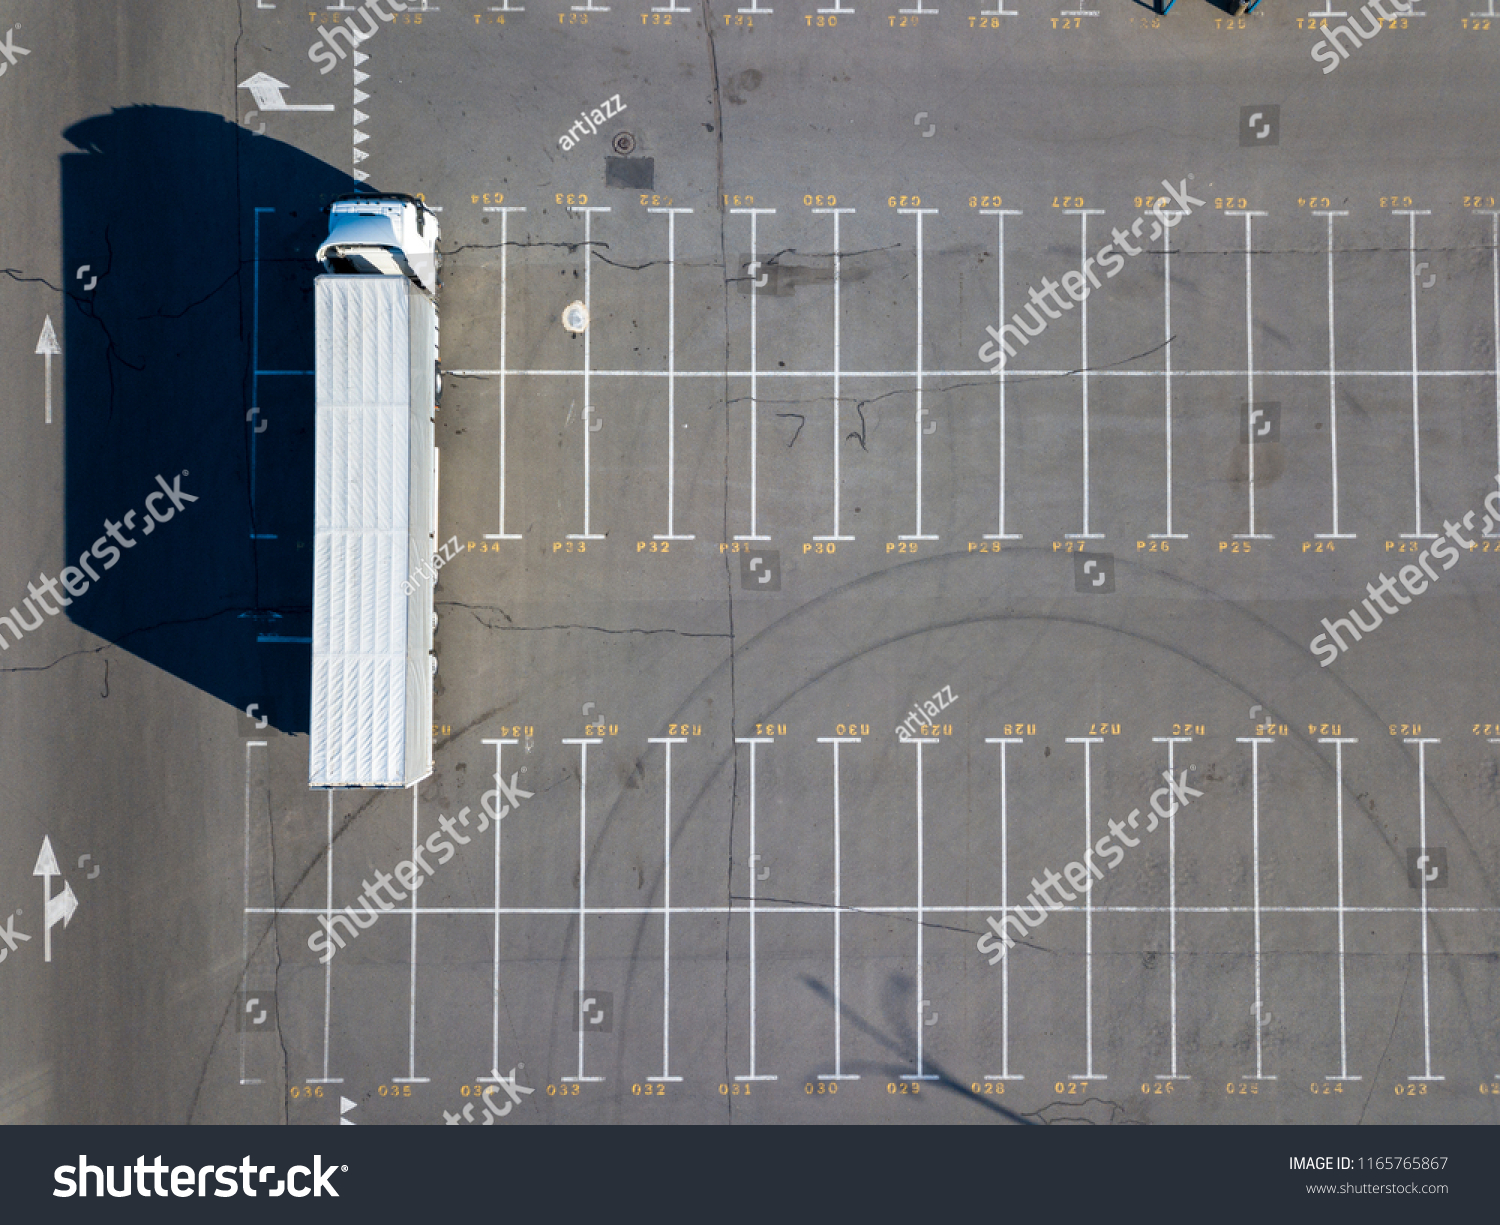LaneMark: (230, 732, 277, 1104), (239, 202, 280, 548), (239, 906, 1500, 917), (444, 368, 1500, 376), (32, 832, 76, 970), (490, 743, 505, 1079), (27, 313, 69, 430), (745, 739, 759, 1078), (1327, 214, 1341, 535), (1336, 736, 1348, 1075), (831, 739, 843, 1075), (576, 744, 588, 1075), (1409, 214, 1422, 533), (1252, 738, 1263, 1077), (660, 741, 672, 1075), (914, 740, 924, 1077), (1422, 736, 1430, 1078), (914, 213, 923, 535), (1169, 743, 1176, 1075), (668, 213, 675, 538), (583, 211, 591, 535), (1165, 212, 1172, 536), (999, 216, 1007, 535), (323, 793, 330, 1077), (1085, 741, 1091, 1075), (501, 213, 507, 538), (833, 211, 840, 536), (751, 213, 757, 537), (1248, 214, 1255, 533), (1000, 738, 1005, 1075), (1083, 213, 1088, 533), (1316, 734, 1360, 745), (1232, 530, 1273, 541), (978, 206, 1023, 216), (482, 206, 525, 216), (562, 736, 603, 746), (1402, 734, 1443, 744), (647, 206, 693, 214), (895, 207, 941, 216), (1060, 207, 1105, 216), (896, 736, 941, 745), (984, 735, 1027, 744), (1233, 735, 1275, 744), (480, 738, 520, 746), (1063, 735, 1106, 743), (645, 736, 688, 744), (1144, 209, 1194, 216), (980, 532, 1022, 540), (1063, 532, 1104, 540), (1145, 532, 1186, 540), (735, 736, 772, 744), (817, 736, 861, 743), (566, 533, 607, 540), (897, 533, 937, 540), (733, 535, 771, 541), (731, 209, 777, 214), (1225, 211, 1270, 216), (814, 208, 856, 213), (652, 535, 693, 540), (812, 536, 852, 541), (483, 535, 522, 540), (568, 207, 609, 211)
